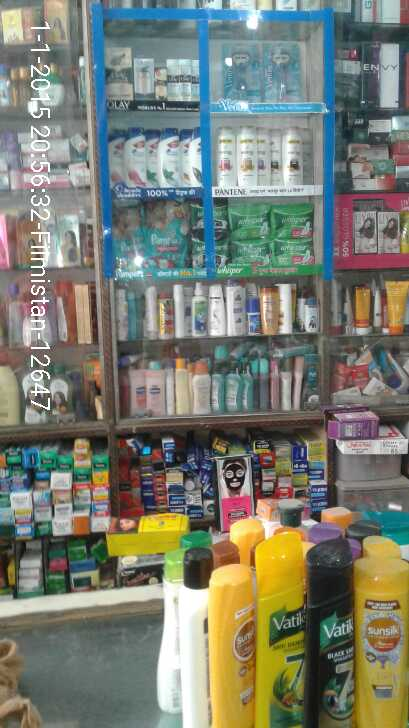venus: (261, 42, 300, 100), (223, 41, 261, 100)
